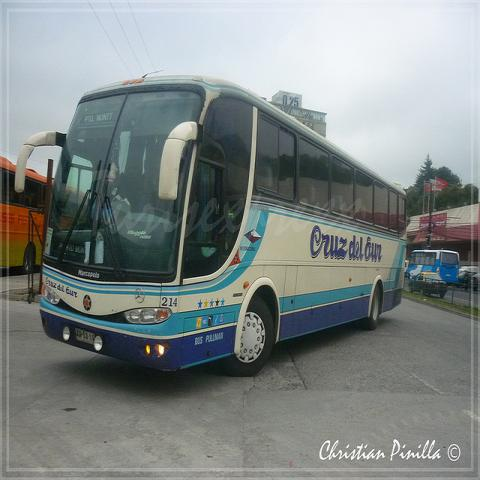bus: (17, 76, 407, 378), (0, 158, 54, 275), (405, 250, 461, 283)
car: (408, 272, 448, 299), (455, 272, 477, 292)
